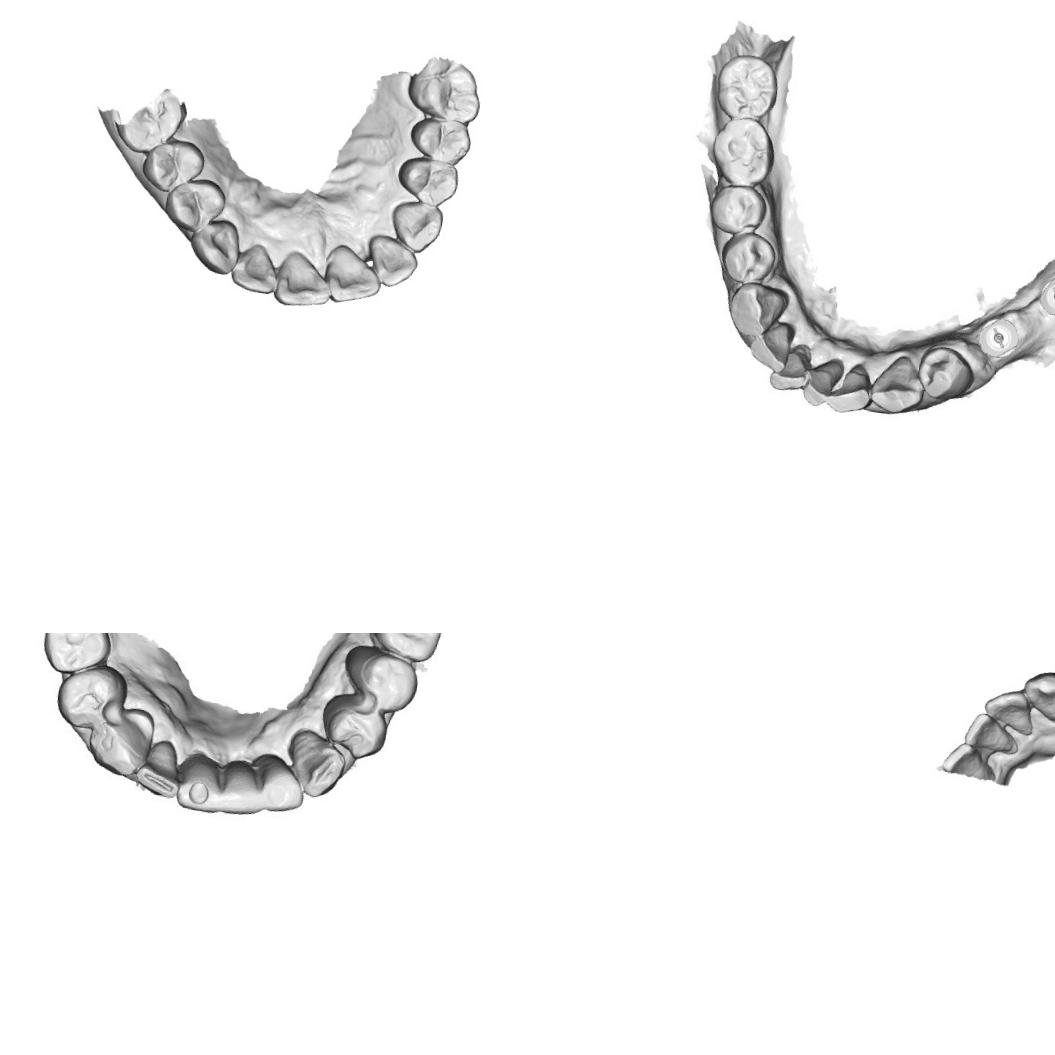canine: (84, 702, 157, 780), (282, 728, 350, 802), (864, 348, 929, 419), (185, 214, 244, 278), (386, 197, 448, 257), (726, 282, 790, 338), (1017, 665, 1055, 724)
implant_minus: (976, 313, 1022, 362), (1033, 274, 1055, 320)
incisor: (322, 241, 388, 309), (272, 247, 334, 312), (249, 750, 310, 816), (362, 232, 424, 292), (132, 736, 186, 801), (229, 239, 286, 300), (173, 751, 227, 815), (764, 336, 821, 396), (960, 708, 1024, 759), (980, 684, 1040, 738), (218, 757, 268, 819), (826, 362, 874, 416), (801, 352, 843, 406), (748, 320, 792, 371)
molar: (402, 53, 486, 122), (713, 52, 778, 126), (709, 116, 773, 186), (363, 633, 446, 665)
premolar: (338, 642, 423, 718), (51, 657, 132, 734), (317, 690, 392, 764), (136, 134, 208, 200), (160, 172, 230, 239), (392, 152, 463, 210), (404, 113, 474, 168), (39, 633, 116, 680), (917, 344, 977, 400), (720, 232, 777, 290), (708, 185, 766, 238)
